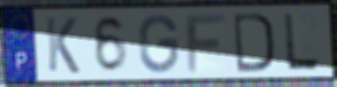6: (92, 15, 130, 74)
D: (231, 11, 277, 74)
F: (184, 12, 228, 74)
G: (138, 13, 180, 75)
K: (43, 15, 82, 75)
L: (281, 11, 323, 72)
